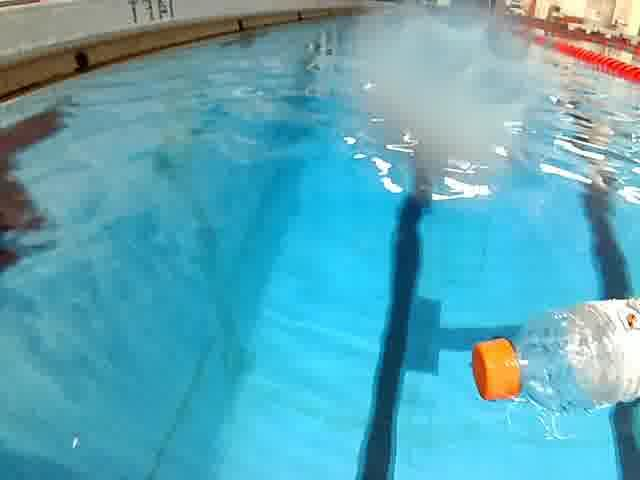Bottle: (470, 296, 640, 418)
